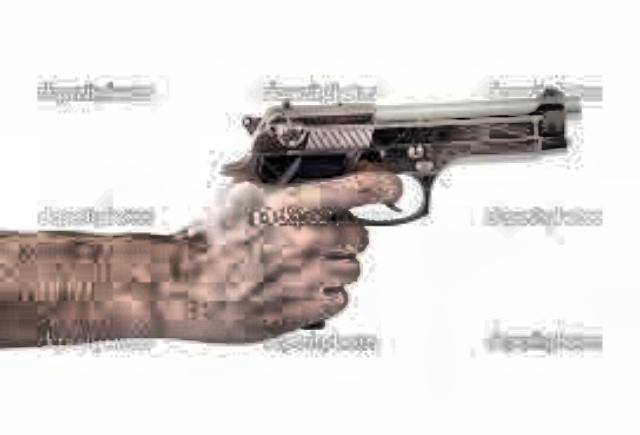pistol: (228, 87, 584, 329)
